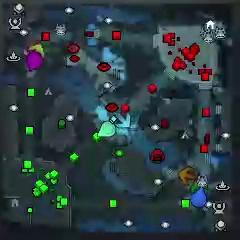p1: (190, 186, 208, 208)
p2: (98, 121, 116, 137)
p3: (27, 51, 42, 72)
x2: (29, 43, 45, 56)
x3: (115, 112, 131, 129)
x4: (190, 184, 208, 195)
x5: (179, 167, 196, 183)
